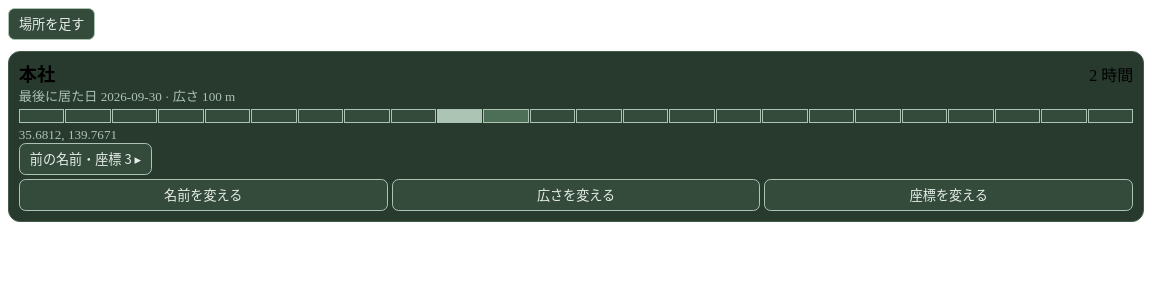
places-view › 前の名前・座標は押したときだけ出て、件数は名前と座標の和（予定も数える）
Check: the text "旧オフィス" is not shown
Click the button "前の名前・座標 3 ▸": (86, 159) [19, 143, 152, 175]
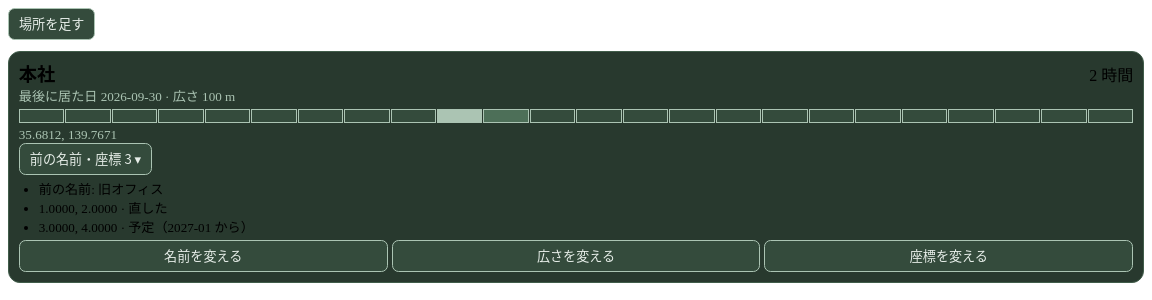
Check: the button "前の名前・座標 3 ▾" is expanded, box [19, 143, 152, 175]
Check: the list item "前の名前: 旧オフィス" is shown, box [39, 182, 163, 197]
Check: the list item with test id "previous-coord" shows "直した", box [128, 201, 168, 216]
